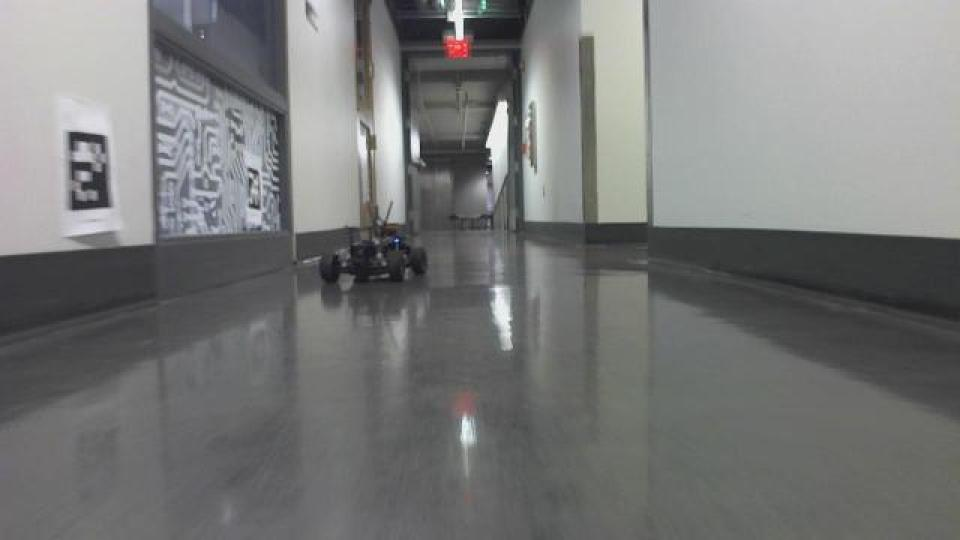car: (315, 201, 429, 288)
